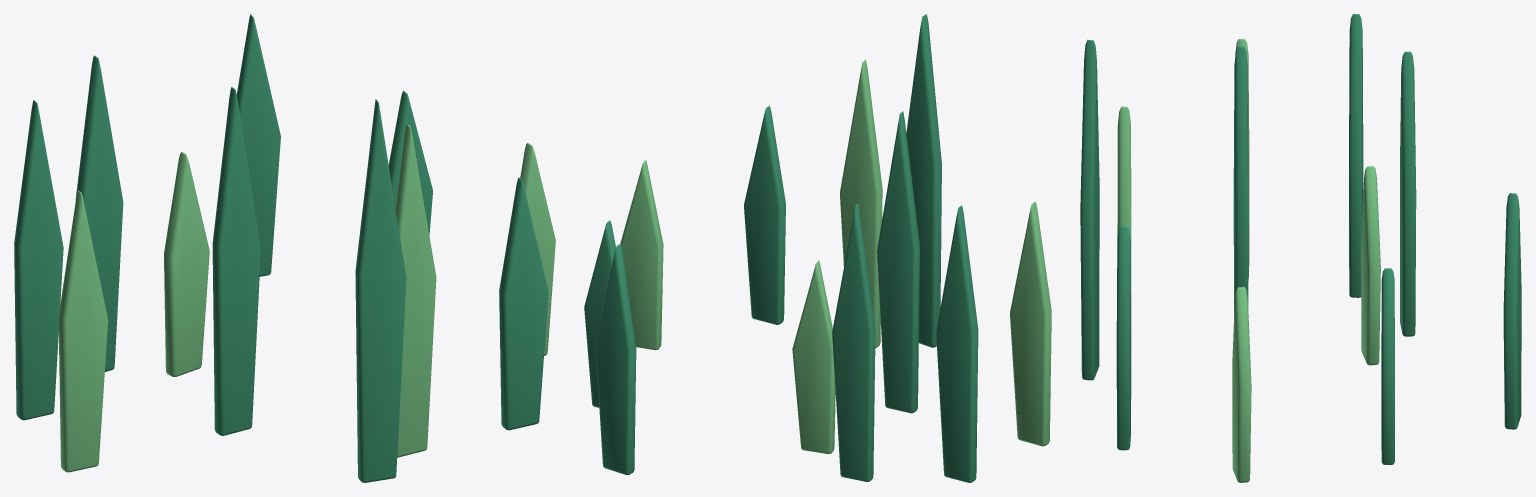
File: r005_reef_seagrass_cards_seagrass_03.glb
The picture shows the model from 3 angles, left to right: view 1: azimuth 30°, elevation 25°; view 2: azimuth 150°, elevation 25°; view 3: azimuth 270°, elevation 25°; orthographic projection. The views are drawn at different scales.
Parts seen in each view (by area): view 1: r005_reef_seagrass_cards_seagrass_03.001; view 2: r005_reef_seagrass_cards_seagrass_03.001; view 3: r005_reef_seagrass_cards_seagrass_03.001.
Boxes of the visible parts, x1,y1,x2,y2 form: r005_reef_seagrass_cards_seagrass_03.001: (14,14,555,482); r005_reef_seagrass_cards_seagrass_03.001: (584,14,1051,482); r005_reef_seagrass_cards_seagrass_03.001: (1080,14,1521,482).
Size of the model in its own units: 2.1 by 1.54 by 1.84.
